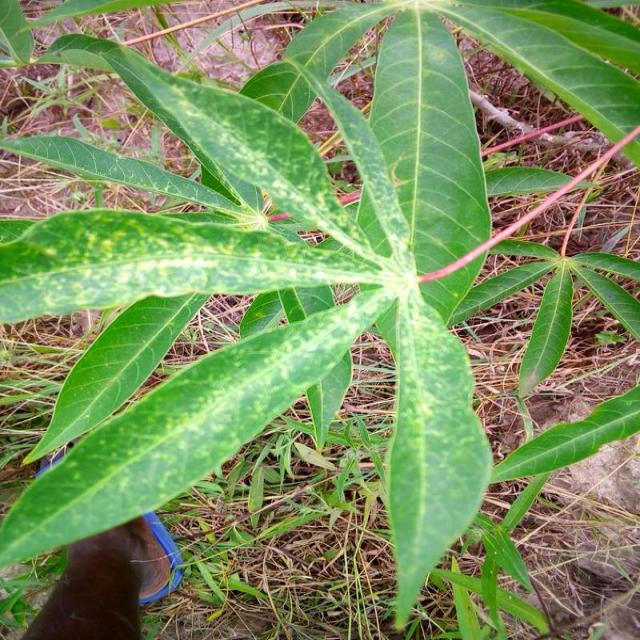cassava leaf: (2, 1, 638, 633), (1, 284, 383, 568), (358, 4, 493, 326), (388, 290, 494, 632)
